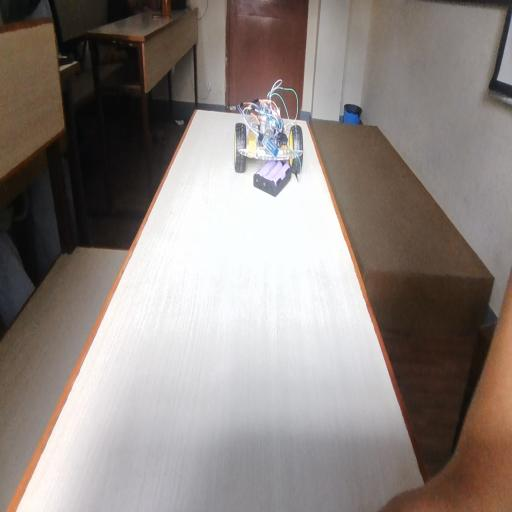car: (218, 64, 318, 176)
